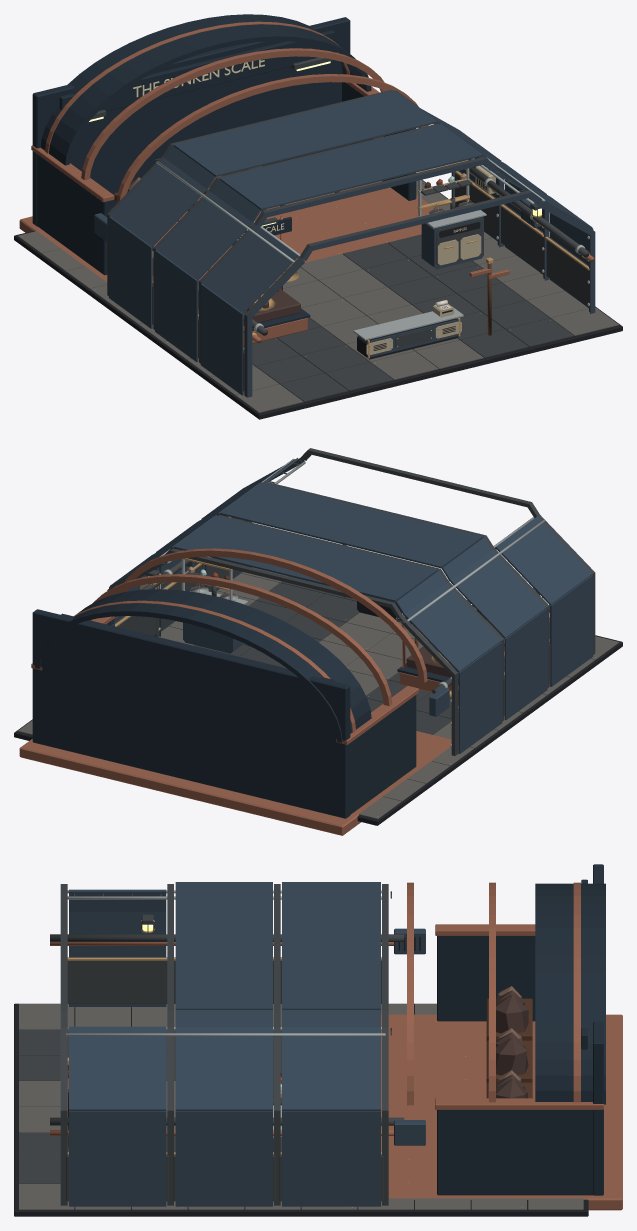
The model's file is candara-assay.glb.
3 views of the same model, one above another, from view 1: azimuth 30°, elevation 25°; view 2: azimuth 150°, elevation 25°; view 3: azimuth 270°, elevation 25° (orthographic). The views are drawn at different scales.
Parts seen in each view (by area): view 1: candara-assay; view 2: candara-assay; view 3: candara-assay.
Part boxes in pixels (x1,y1,x2,y2): candara-assay: [14, 14, 622, 419]; candara-assay: [14, 448, 622, 835]; candara-assay: [14, 864, 622, 1216].
Bounding box in the file's own units: 17.08 × 7.77 × 21.15.
Materials: 20 (17 with a texture image).
